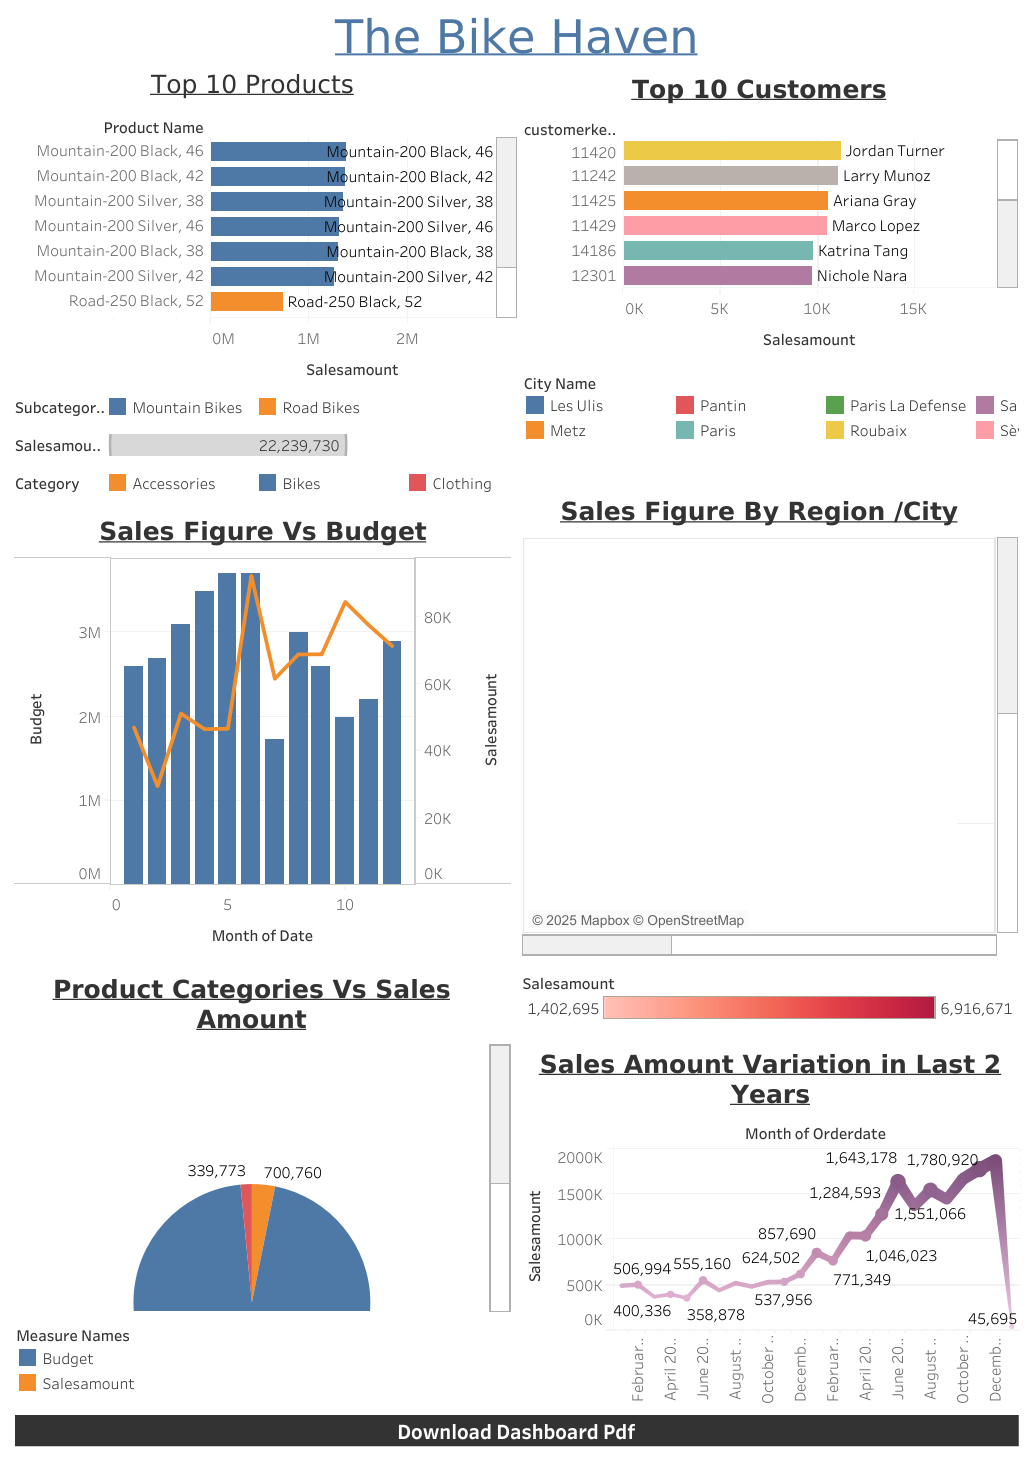

Layout of this report page (visuals, bound fields, positions):
{"tool":"tableau","page":{"name":"Dashboard 1","canvas":[827,1169],"ordinal":0},"visuals":[{"type":"text","box":[8,8,811,41]},{"type":"worksheet","title":"Top 10 Products","mark":"Automatic","rows":["product_name"],"cols":["salesamount"],"box":[8,49,405.5,262]},{"type":"worksheet","title":"Top 10 Customers","mark":"Automatic","rows":["customerkey (Customer Table.csv)"],"cols":["salesamount"],"box":[413.5,49,405.5,242.1]},{"type":"legend","title":"Top 10 Customers","param":"[federated.0aqec7d1u44xe118lkure19csb59].[none:city_name:nk]","box":[413.5,291.1,405.5,84]},{"type":"legend","title":"Top 10 Products","param":"[federated.0aqec7d1u44xe118lkure19csb59].[none:subcategory_name:nk]","box":[8,311,405.5,30.6]},{"type":"legend","title":"Product Categories vs Sales Amount","param":"[federated.0aqec7d1u44xe118lkure19csb59].[sum:salesamount:qk]","box":[8,341.6,405.5,30.6]},{"type":"legend","title":"Product Categories vs Sales Amount","param":"[federated.0aqec7d1u44xe118lkure19csb59].[none:category:nk]","box":[8,372.2,405.5,30.6]},{"type":"worksheet","title":"Sales Figure By Region/City","mark":"Multipolygon","box":[413.5,387,405.5,382]},{"type":"worksheet","title":"Sales Figure Vs Budget","mark":"Automatic","rows":["Budget","salesamount"],"cols":["Date"],"box":[8,402.9,405.5,366.1]},{"type":"worksheet","title":"Product Categories vs Sales Amount","mark":"Pie","box":[8,769,405.5,284]},{"type":"legend","title":"Sales Figure By Region/City","param":"[federated.0aqec7d1u44xe118lkure19csb59].[sum:salesamount:qk]","box":[413.5,769,405.5,60]},{"type":"worksheet","title":"Sales Amount Variation in last 2 Years","mark":"Automatic","rows":["salesamount"],"cols":["orderdate"],"box":[413.5,829,405.5,299]},{"type":"legend","title":"Sales Figure Vs Budget","param":"[federated.0aqec7d1u44xe118lkure19csb59].[:Measure Names]","box":[8,1053,405.5,75]},{"type":"dashboard-object","box":[8,1128,811,33]}]}

Visuals, with their boxes in screenshot pixels (x1, y1, x2, y2), scaled from the page's 827x1169 canvas onto the 1033x1460 screenshot:
text: [10,10,1023,61]
"Top 10 Products" worksheet: [10,61,516,388]
"Top 10 Customers" worksheet: [516,61,1023,364]
"Top 10 Customers" legend: [516,364,1023,468]
"Top 10 Products" legend: [10,388,516,427]
"Product Categories vs Sales Amount" legend: [10,427,516,465]
"Product Categories vs Sales Amount" legend: [10,465,516,503]
"Sales Figure By Region/City" worksheet (Multipolygon marks): [516,483,1023,960]
"Sales Figure Vs Budget" worksheet: [10,503,516,960]
"Product Categories vs Sales Amount" worksheet (Pie marks): [10,960,516,1315]
"Sales Figure By Region/City" legend: [516,960,1023,1035]
"Sales Amount Variation in last 2 Years" worksheet: [516,1035,1023,1409]
"Sales Figure Vs Budget" legend: [10,1315,516,1409]
dashboard-object: [10,1409,1023,1450]
